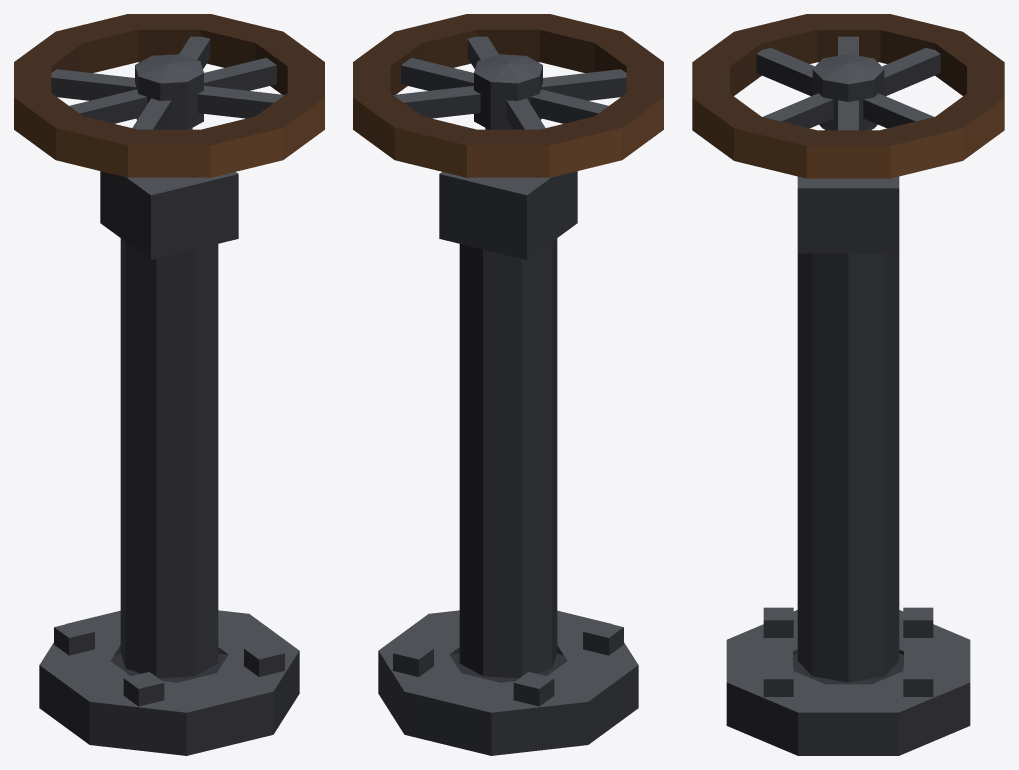
The model's file is valve-wheel.glb.
3 renders of one model, left to right at view 1: azimuth 30°, elevation 25°; view 2: azimuth 150°, elevation 25°; view 3: azimuth 270°, elevation 25°, orthographic.
Parts seen in each view (by area): view 1: ValveWheel; view 2: ValveWheel; view 3: ValveWheel.
Part boxes in pixels (x1,y1,x2,y2): ValveWheel: (14, 14, 324, 755); ValveWheel: (353, 14, 663, 755); ValveWheel: (692, 14, 1004, 755).
Bounding box in the file's own units: 0.5216 × 1.19 × 0.5216.
1 material, 1 textured.
